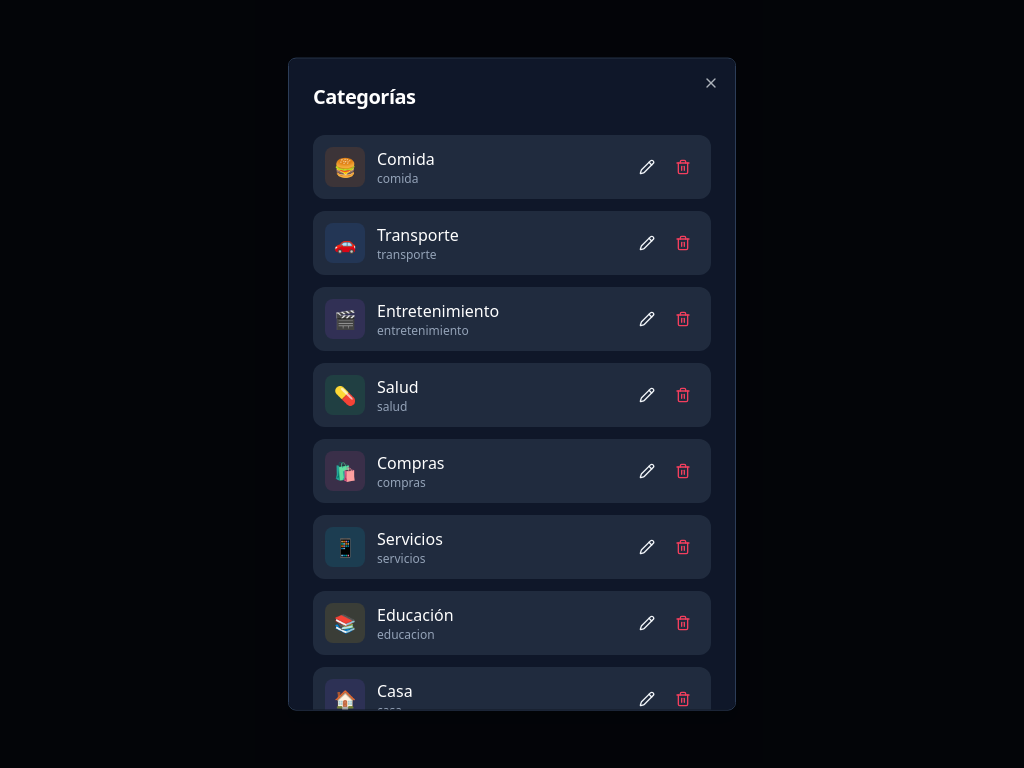
Test: CategoryManager › opens edit form when edit button is clicked
The width and height of the screenshot is (1024, 768).
What coordinates should you click on to do the following:
click the button named "editar comida"
I would click on:
 (647, 167)
Its box is [631, 151, 663, 183].
(page scrolled)
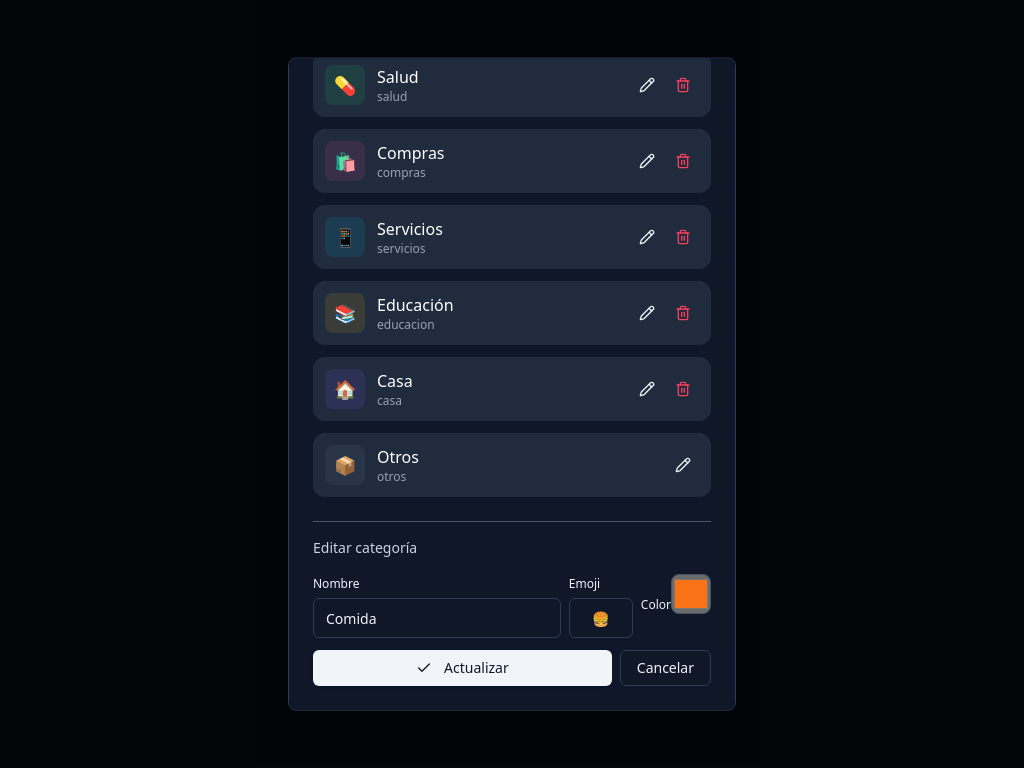
Result: the text "Editar categoría" is shown at [313, 538, 417, 557]
Result: the field labelled "Nombre" holds "Comida" at [313, 598, 561, 638]
